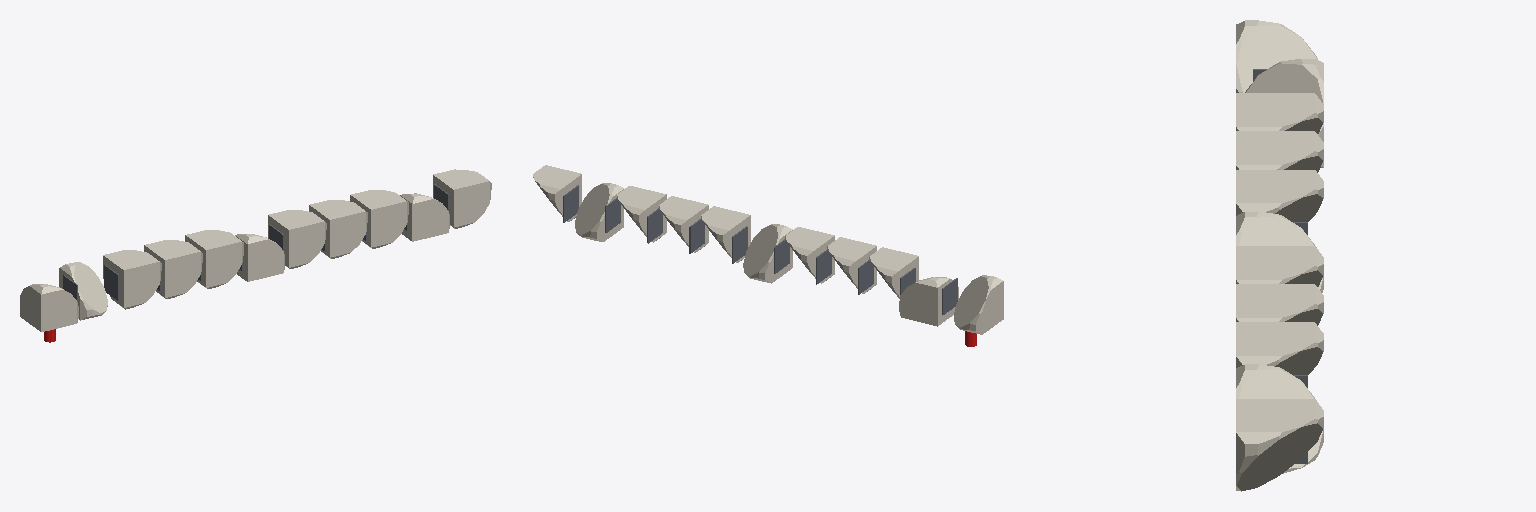
The robot description file, URDF, robot "cubot_shipped":
<?xml version="1.0"?>
<!-- Generated by build_cubot_urdf.py; edit that script, not this file.
     27 x 80 mm cubes, <111> hinge, 8 mm equatorial chamfers + CAD neck profile, 2.2 mm gap (pitch 82.2 mm),
     shipped roll word 1200130013 (right-hand about +X, toward module 27). Units: m, rad, kg.
     Servos are revolute, limited to -120..+120 deg: three positions (-120 / 0 / +120), one per exit face.
     Module 01's wires: a 20 mm dia x 40 mm keep-out cylinder under its bottom (-Z) face, on m01_still. -->
<robot name="cubot_shipped">
  <mujoco><compiler meshdir="." discardvisual="false" fusestatic="false" balanceinertia="true"/></mujoco>

  <material name="still"><color rgba="0.85 0.83 0.78 1"/></material>
  <material name="moving"><color rgba="0.91 0.51 0.23 1"/></material>
  <material name="spacer"><color rgba="0.45 0.47 0.5 1"/></material>
  <material name="wires"><color rgba="0.86 0.15 0.15 1"/></material>

  <!-- ==================== module 01 ==================== -->
  <link name="m01_still">
    <visual>
      <geometry><mesh filename="meshes/still.stl"/></geometry>
      <material name="still"/>
    </visual>
    <collision>
      <geometry><mesh filename="meshes/still.stl"/></geometry>
    </collision>
    <!-- wires: 20 mm dia x 40 mm keep-out under the bottom (-Z) face; massless; nothing may touch it -->
    <visual name="wires_visual">
      <origin xyz="0 0 -0.060000" rpy="0 0 0"/>
      <geometry><cylinder radius="0.01" length="0.04"/></geometry>
      <material name="wires"/>
    </visual>
    <collision name="wires">
      <origin xyz="0 0 -0.060000" rpy="0 0 0"/>
      <geometry><cylinder radius="0.01" length="0.04"/></geometry>
    </collision>
    <inertial>
      <origin xyz="-0.01103093 -0.01103093 -0.01103093" rpy="0 0 0"/>
      <mass value="0.125"/>
      <inertia ixx="9.83829037e-05" ixy="1.31849188e-05" ixz="1.31849188e-05" iyy="9.83829037e-05" iyz="1.31849188e-05" izz="9.83829037e-05"/>
    </inertial>
  </link>

  <link name="m01_moving">
    <visual>
      <geometry><mesh filename="meshes/moving.stl"/></geometry>
      <material name="moving"/>
    </visual>
    <collision>
      <geometry><mesh filename="meshes/moving.stl"/></geometry>
    </collision>
    <visual>
      <origin xyz="0.041100 0 0" rpy="0 0 0"/>
      <geometry><box size="0.0022 0.05 0.05"/></geometry>
      <material name="spacer"/>
    </visual>
    <collision>
      <origin xyz="0.041100 0 0" rpy="0 0 0"/>
      <geometry><box size="0.0022 0.05 0.05"/></geometry>
    </collision>
    <inertial>
      <origin xyz="0.01103093 0.01103093 0.01103093" rpy="0 0 0"/>
      <mass value="0.125"/>
      <inertia ixx="9.83829037e-05" ixy="1.31849188e-05" ixz="1.31849188e-05" iyy="9.83829037e-05" iyz="1.31849188e-05" izz="9.83829037e-05"/>
    </inertial>
  </link>

  <joint name="servo01" type="revolute">
    <parent link="m01_still"/>
    <child link="m01_moving"/>
    <origin xyz="0 0 0" rpy="0 0 0"/>
    <axis xyz="0.57735027 0.57735027 0.57735027"/>
    <limit lower="-2.09439510" upper="2.09439510" effort="5.8" velocity="1.2"/>
  </joint>

  <joint name="mount01_02" type="fixed">
    <!-- roll digit 1: module 2 mounted 90 deg about +X relative to module 1 -->
    <parent link="m01_moving"/>
    <child link="m02_still"/>
    <origin xyz="0.0822 0 0" rpy="1.57079633 0 0"/>
  </joint>

  <!-- ==================== module 02 ==================== -->
  <link name="m02_still">
    <visual>
      <geometry><mesh filename="meshes/still.stl"/></geometry>
      <material name="still"/>
    </visual>
    <collision>
      <geometry><mesh filename="meshes/still.stl"/></geometry>
    </collision>
    <inertial>
      <origin xyz="-0.01103093 -0.01103093 -0.01103093" rpy="0 0 0"/>
      <mass value="0.125"/>
      <inertia ixx="9.83829037e-05" ixy="1.31849188e-05" ixz="1.31849188e-05" iyy="9.83829037e-05" iyz="1.31849188e-05" izz="9.83829037e-05"/>
    </inertial>
  </link>

  <link name="m02_moving">
    <visual>
      <geometry><mesh filename="meshes/moving.stl"/></geometry>
      <material name="moving"/>
    </visual>
    <collision>
      <geometry><mesh filename="meshes/moving.stl"/></geometry>
    </collision>
    <visual>
      <origin xyz="0.041100 0 0" rpy="0 0 0"/>
      <geometry><box size="0.0022 0.05 0.05"/></geometry>
      <material name="spacer"/>
    </visual>
    <collision>
      <origin xyz="0.041100 0 0" rpy="0 0 0"/>
      <geometry><box size="0.0022 0.05 0.05"/></geometry>
    </collision>
    <inertial>
      <origin xyz="0.01103093 0.01103093 0.01103093" rpy="0 0 0"/>
      <mass value="0.125"/>
      <inertia ixx="9.83829037e-05" ixy="1.31849188e-05" ixz="1.31849188e-05" iyy="9.83829037e-05" iyz="1.31849188e-05" izz="9.83829037e-05"/>
    </inertial>
  </link>

  <joint name="servo02" type="revolute">
    <parent link="m02_still"/>
    <child link="m02_moving"/>
    <origin xyz="0 0 0" rpy="0 0 0"/>
    <axis xyz="0.57735027 0.57735027 0.57735027"/>
    <limit lower="-2.09439510" upper="2.09439510" effort="5.8" velocity="1.2"/>
  </joint>

  <joint name="mount02_03" type="fixed">
    <!-- roll digit 2: module 3 mounted 180 deg about +X relative to module 2 -->
    <parent link="m02_moving"/>
    <child link="m03_still"/>
    <origin xyz="0.0822 0 0" rpy="3.14159265 0 0"/>
  </joint>

  <!-- ==================== module 03 ==================== -->
  <link name="m03_still">
    <visual>
      <geometry><mesh filename="meshes/still.stl"/></geometry>
      <material name="still"/>
    </visual>
    <collision>
      <geometry><mesh filename="meshes/still.stl"/></geometry>
    </collision>
    <inertial>
      <origin xyz="-0.01103093 -0.01103093 -0.01103093" rpy="0 0 0"/>
      <mass value="0.125"/>
      <inertia ixx="9.83829037e-05" ixy="1.31849188e-05" ixz="1.31849188e-05" iyy="9.83829037e-05" iyz="1.31849188e-05" izz="9.83829037e-05"/>
    </inertial>
  </link>

  <link name="m03_moving">
    <visual>
      <geometry><mesh filename="meshes/moving.stl"/></geometry>
      <material name="moving"/>
    </visual>
    <collision>
      <geometry><mesh filename="meshes/moving.stl"/></geometry>
    </collision>
    <visual>
      <origin xyz="0.041100 0 0" rpy="0 0 0"/>
      <geometry><box size="0.0022 0.05 0.05"/></geometry>
      <material name="spacer"/>
    </visual>
    <collision>
      <origin xyz="0.041100 0 0" rpy="0 0 0"/>
      <geometry><box size="0.0022 0.05 0.05"/></geometry>
    </collision>
    <inertial>
      <origin xyz="0.01103093 0.01103093 0.01103093" rpy="0 0 0"/>
      <mass value="0.125"/>
      <inertia ixx="9.83829037e-05" ixy="1.31849188e-05" ixz="1.31849188e-05" iyy="9.83829037e-05" iyz="1.31849188e-05" izz="9.83829037e-05"/>
    </inertial>
  </link>

  <joint name="servo03" type="revolute">
    <parent link="m03_still"/>
    <child link="m03_moving"/>
    <origin xyz="0 0 0" rpy="0 0 0"/>
    <axis xyz="0.57735027 0.57735027 0.57735027"/>
    <limit lower="-2.09439510" upper="2.09439510" effort="5.8" velocity="1.2"/>
  </joint>

  <joint name="mount03_04" type="fixed">
    <!-- roll digit 0: module 4 mounted 0 deg about +X relative to module 3 -->
    <parent link="m03_moving"/>
    <child link="m04_still"/>
    <origin xyz="0.0822 0 0" rpy="0.00000000 0 0"/>
  </joint>

  <!-- ==================== module 04 ==================== -->
  <link name="m04_still">
    <visual>
      <geometry><mesh filename="meshes/still.stl"/></geometry>
      <material name="still"/>
    </visual>
    <collision>
      <geometry><mesh filename="meshes/still.stl"/></geometry>
    </collision>
    <inertial>
      <origin xyz="-0.01103093 -0.01103093 -0.01103093" rpy="0 0 0"/>
      <mass value="0.125"/>
      <inertia ixx="9.83829037e-05" ixy="1.31849188e-05" ixz="1.31849188e-05" iyy="9.83829037e-05" iyz="1.31849188e-05" izz="9.83829037e-05"/>
    </inertial>
  </link>

  <link name="m04_moving">
    <visual>
      <geometry><mesh filename="meshes/moving.stl"/></geometry>
      <material name="moving"/>
    </visual>
    <collision>
      <geometry><mesh filename="meshes/moving.stl"/></geometry>
    </collision>
    <visual>
      <origin xyz="0.041100 0 0" rpy="0 0 0"/>
      <geometry><box size="0.0022 0.05 0.05"/></geometry>
      <material name="spacer"/>
    </visual>
    <collision>
      <origin xyz="0.041100 0 0" rpy="0 0 0"/>
      <geometry><box size="0.0022 0.05 0.05"/></geometry>
    </collision>
    <inertial>
      <origin xyz="0.01103093 0.01103093 0.01103093" rpy="0 0 0"/>
      <mass value="0.125"/>
      <inertia ixx="9.83829037e-05" ixy="1.31849188e-05" ixz="1.31849188e-05" iyy="9.83829037e-05" iyz="1.31849188e-05" izz="9.83829037e-05"/>
    </inertial>
  </link>

  <joint name="servo04" type="revolute">
    <parent link="m04_still"/>
    <child link="m04_moving"/>
    <origin xyz="0 0 0" rpy="0 0 0"/>
    <axis xyz="0.57735027 0.57735027 0.57735027"/>
    <limit lower="-2.09439510" upper="2.09439510" effort="5.8" velocity="1.2"/>
  </joint>

  <joint name="mount04_05" type="fixed">
    <!-- roll digit 0: module 5 mounted 0 deg about +X relative to module 4 -->
    <parent link="m04_moving"/>
    <child link="m05_still"/>
    <origin xyz="0.0822 0 0" rpy="0.00000000 0 0"/>
  </joint>

  <!-- ==================== module 05 ==================== -->
  <link name="m05_still">
    <visual>
      <geometry><mesh filename="meshes/still.stl"/></geometry>
      <material name="still"/>
    </visual>
    <collision>
      <geometry><mesh filename="meshes/still.stl"/></geometry>
    </collision>
    <inertial>
      <origin xyz="-0.01103093 -0.01103093 -0.01103093" rpy="0 0 0"/>
      <mass value="0.125"/>
      <inertia ixx="9.83829037e-05" ixy="1.31849188e-05" ixz="1.31849188e-05" iyy="9.83829037e-05" iyz="1.31849188e-05" izz="9.83829037e-05"/>
    </inertial>
  </link>

  <link name="m05_moving">
    <visual>
      <geometry><mesh filename="meshes/moving.stl"/></geometry>
      <material name="moving"/>
    </visual>
    <collision>
      <geometry><mesh filename="meshes/moving.stl"/></geometry>
    </collision>
    <visual>
      <origin xyz="0.041100 0 0" rpy="0 0 0"/>
      <geometry><box size="0.0022 0.05 0.05"/></geometry>
      <material name="spacer"/>
    </visual>
    <collision>
      <origin xyz="0.041100 0 0" rpy="0 0 0"/>
      <geometry><box size="0.0022 0.05 0.05"/></geometry>
    </collision>
    <inertial>
      <origin xyz="0.01103093 0.01103093 0.01103093" rpy="0 0 0"/>
      <mass value="0.125"/>
      <inertia ixx="9.83829037e-05" ixy="1.31849188e-05" ixz="1.31849188e-05" iyy="9.83829037e-05" iyz="1.31849188e-05" izz="9.83829037e-05"/>
    </inertial>
  </link>

  <joint name="servo05" type="revolute">
    <parent link="m05_still"/>
    <child link="m05_moving"/>
    <origin xyz="0 0 0" rpy="0 0 0"/>
    <axis xyz="0.57735027 0.57735027 0.57735027"/>
    <limit lower="-2.09439510" upper="2.09439510" effort="5.8" velocity="1.2"/>
  </joint>

  <joint name="mount05_06" type="fixed">
    <!-- roll digit 1: module 6 mounted 90 deg about +X relative to module 5 -->
    <parent link="m05_moving"/>
    <child link="m06_still"/>
    <origin xyz="0.0822 0 0" rpy="1.57079633 0 0"/>
  </joint>

  <!-- ==================== module 06 ==================== -->
  <link name="m06_still">
    <visual>
      <geometry><mesh filename="meshes/still.stl"/></geometry>
      <material name="still"/>
    </visual>
    <collision>
      <geometry><mesh filename="meshes/still.stl"/></geometry>
    </collision>
    <inertial>
      <origin xyz="-0.01103093 -0.01103093 -0.01103093" rpy="0 0 0"/>
      <mass value="0.125"/>
      <inertia ixx="9.83829037e-05" ixy="1.31849188e-05" ixz="1.31849188e-05" iyy="9.83829037e-05" iyz="1.31849188e-05" izz="9.83829037e-05"/>
    </inertial>
  </link>

  <link name="m06_moving">
    <visual>
      <geometry><mesh filename="meshes/moving.stl"/></geometry>
      <material name="moving"/>
    </visual>
    <collision>
      <geometry><mesh filename="meshes/moving.stl"/></geometry>
    </collision>
    <visual>
      <origin xyz="0.041100 0 0" rpy="0 0 0"/>
      <geometry><box size="0.0022 0.05 0.05"/></geometry>
      <material name="spacer"/>
    </visual>
    <collision>
      <origin xyz="0.041100 0 0" rpy="0 0 0"/>
      <geometry><box size="0.0022 0.05 0.05"/></geometry>
    </collision>
    <inertial>
      <origin xyz="0.01103093 0.01103093 0.01103093" rpy="0 0 0"/>
      <mass value="0.125"/>
      <inertia ixx="9.83829037e-05" ixy="1.31849188e-05" ixz="1.31849188e-05" iyy="9.83829037e-05" iyz="1.31849188e-05" izz="9.83829037e-05"/>
    </inertial>
  </link>

  <joint name="servo06" type="revolute">
    <parent link="m06_still"/>
    <child link="m06_moving"/>
    <origin xyz="0 0 0" rpy="0 0 0"/>
    <axis xyz="0.57735027 0.57735027 0.57735027"/>
    <limit lower="-2.09439510" upper="2.09439510" effort="5.8" velocity="1.2"/>
  </joint>

  <joint name="mount06_07" type="fixed">
    <!-- roll digit 3: module 7 mounted 270 deg about +X relative to module 6 -->
    <parent link="m06_moving"/>
    <child link="m07_still"/>
    <origin xyz="0.0822 0 0" rpy="4.71238898 0 0"/>
  </joint>

  <!-- ==================== module 07 ==================== -->
  <link name="m07_still">
    <visual>
      <geometry><mesh filename="meshes/still.stl"/></geometry>
      <material name="still"/>
    </visual>
    <collision>
      <geometry><mesh filename="meshes/still.stl"/></geometry>
    </collision>
    <inertial>
      <origin xyz="-0.01103093 -0.01103093 -0.01103093" rpy="0 0 0"/>
      <mass value="0.125"/>
      <inertia ixx="9.83829037e-05" ixy="1.31849188e-05" ixz="1.31849188e-05" iyy="9.83829037e-05" iyz="1.31849188e-05" izz="9.83829037e-05"/>
    </inertial>
  </link>

  <link name="m07_moving">
    <visual>
      <geometry><mesh filename="meshes/moving.stl"/></geometry>
      <material name="moving"/>
    </visual>
    <collision>
      <geometry><mesh filename="meshes/moving.stl"/></geometry>
    </collision>
    <visual>
      <origin xyz="0.041100 0 0" rpy="0 0 0"/>
      <geometry><box size="0.0022 0.05 0.05"/></geometry>
      <material name="spacer"/>
    </visual>
    <collision>
      <origin xyz="0.041100 0 0" rpy="0 0 0"/>
      <geometry><box size="0.0022 0.05 0.05"/></geometry>
    </collision>
    <inertial>
      <origin xyz="0.01103093 0.01103093 0.01103093" rpy="0 0 0"/>
      <mass value="0.125"/>
      <inertia ixx="9.83829037e-05" ixy="1.31849188e-05" ixz="1.31849188e-05" iyy="9.83829037e-05" iyz="1.31849188e-05" izz="9.83829037e-05"/>
    </inertial>
  </link>

  <joint name="servo07" type="revolute">
    <parent link="m07_still"/>
    <child link="m07_moving"/>
    <origin xyz="0 0 0" rpy="0 0 0"/>
    <axis xyz="0.57735027 0.57735027 0.57735027"/>
    <limit lower="-2.09439510" upper="2.09439510" effort="5.8" velocity="1.2"/>
  </joint>

  <joint name="mount07_08" type="fixed">
    <!-- roll digit 0: module 8 mounted 0 deg about +X relative to module 7 -->
    <parent link="m07_moving"/>
    <child link="m08_still"/>
    <origin xyz="0.0822 0 0" rpy="0.00000000 0 0"/>
  </joint>

  <!-- ==================== module 08 ==================== -->
  <link name="m08_still">
    <visual>
      <geometry><mesh filename="meshes/still.stl"/></geometry>
      <material name="still"/>
    </visual>
    <collision>
      <geometry><mesh filename="meshes/still.stl"/></geometry>
    </collision>
    <inertial>
      <origin xyz="-0.01103093 -0.01103093 -0.01103093" rpy="0 0 0"/>
      <mass value="0.125"/>
      <inertia ixx="9.83829037e-05" ixy="1.31849188e-05" ixz="1.31849188e-05" iyy="9.83829037e-05" iyz="1.31849188e-05" izz="9.83829037e-05"/>
    </inertial>
  </link>

  <link name="m08_moving">
    <visual>
      <geometry><mesh filename="meshes/moving.stl"/></geometry>
      <material name="moving"/>
    </visual>
    <collision>
      <geometry><mesh filename="meshes/moving.stl"/></geometry>
    </collision>
    <visual>
      <origin xyz="0.041100 0 0" rpy="0 0 0"/>
      <geometry><box size="0.0022 0.05 0.05"/></geometry>
      <material name="spacer"/>
    </visual>
    <collision>
      <origin xyz="0.041100 0 0" rpy="0 0 0"/>
      <geometry><box size="0.0022 0.05 0.05"/></geometry>
    </collision>
    <inertial>
      <origin xyz="0.01103093 0.01103093 0.01103093" rpy="0 0 0"/>
      <mass value="0.125"/>
      <inertia ixx="9.83829037e-05" ixy="1.31849188e-05" ixz="1.31849188e-05" iyy="9.83829037e-05" iyz="1.31849188e-05" izz="9.83829037e-05"/>
    </inertial>
  </link>

  <joint name="servo08" type="revolute">
    <parent link="m08_still"/>
    <child link="m08_moving"/>
    <origin xyz="0 0 0" rpy="0 0 0"/>
    <axis xyz="0.57735027 0.57735027 0.57735027"/>
    <limit lower="-2.09439510" upper="2.09439510" effort="5.8" velocity="1.2"/>
  </joint>

  <joint name="mount08_09" type="fixed">
    <!-- roll digit 0: module 9 mounted 0 deg about +X relative to module 8 -->
    <parent link="m08_moving"/>
    <child link="m09_still"/>
    <origin xyz="0.0822 0 0" rpy="0.00000000 0 0"/>
  </joint>

  <!-- ==================== module 09 ==================== -->
  <link name="m09_still">
    <visual>
      <geometry><mesh filename="meshes/still.stl"/></geometry>
      <material name="still"/>
    </visual>
    <collision>
      <geometry><mesh filename="meshes/still.stl"/></geometry>
    </collision>
    <inertial>
      <origin xyz="-0.01103093 -0.01103093 -0.01103093" rpy="0 0 0"/>
      <mass value="0.125"/>
      <inertia ixx="9.83829037e-05" ixy="1.31849188e-05" ixz="1.31849188e-05" iyy="9.83829037e-05" iyz="1.31849188e-05" izz="9.83829037e-05"/>
    </inertial>
  </link>

  <link name="m09_moving">
    <visual>
      <geometry><mesh filename="meshes/moving.stl"/></geometry>
      <material name="moving"/>
    </visual>
    <collision>
      <geometry><mesh filename="meshes/moving.stl"/></geometry>
    </collision>
    <visual>
      <origin xyz="0.041100 0 0" rpy="0 0 0"/>
      <geometry><box size="0.0022 0.05 0.05"/></geometry>
      <material name="spacer"/>
    </visual>
    <collision>
      <origin xyz="0.041100 0 0" rpy="0 0 0"/>
      <geometry><box size="0.0022 0.05 0.05"/></geometry>
    </collision>
    <inertial>
      <origin xyz="0.01103093 0.01103093 0.01103093" rpy="0 0 0"/>
      <mass value="0.125"/>
      <inertia ixx="9.83829037e-05" ixy="1.31849188e-05" ixz="1.31849188e-05" iyy="9.83829037e-05" iyz="1.31849188e-05" izz="9.83829037e-05"/>
    </inertial>
  </link>

  <joint name="servo09" type="revolute">
    <parent link="m09_still"/>
    <child link="m09_moving"/>
    <origin xyz="0 0 0" rpy="0 0 0"/>
    <axis xyz="0.57735027 0.57735027 0.57735027"/>
    <limit lower="-2.09439510" upper="2.09439510" effort="5.8" velocity="1.2"/>
  </joint>

  <joint name="mount09_10" type="fixed">
    <!-- roll digit 1: module 10 mounted 90 deg about +X relative to module 9 -->
    <parent link="m09_moving"/>
    <child link="m10_still"/>
    <origin xyz="0.0822 0 0" rpy="1.57079633 0 0"/>
  </joint>

  <!-- ==================== module 10 ==================== -->
  <link name="m10_still">
    <visual>
      <geometry><mesh filename="meshes/still.stl"/></geometry>
      <material name="still"/>
    </visual>
    <collision>
      <geometry><mesh filename="meshes/still.stl"/></geometry>
    </collision>
    <inertial>
      <origin xyz="-0.01103093 -0.01103093 -0.01103093" rpy="0 0 0"/>
      <mass value="0.125"/>
      <inertia ixx="9.83829037e-05" ixy="1.31849188e-05" ixz="1.31849188e-05" iyy="9.83829037e-05" iyz="1.31849188e-05" izz="9.83829037e-05"/>
    </inertial>
  </link>

  <link name="m10_moving">
    <visual>
      <geometry><mesh filename="meshes/moving.stl"/></geometry>
      <material name="moving"/>
    </visual>
    <collision>
      <geometry><mesh filename="meshes/moving.stl"/></geometry>
    </collision>
    <visual>
      <origin xyz="0.041100 0 0" rpy="0 0 0"/>
      <geometry><box size="0.0022 0.05 0.05"/></geometry>
      <material name="spacer"/>
    </visual>
    <collision>
      <origin xyz="0.041100 0 0" rpy="0 0 0"/>
      <geometry><box size="0.0022 0.05 0.05"/></geometry>
    </collision>
    <inertial>
      <origin xyz="0.01103093 0.01103093 0.01103093" rpy="0 0 0"/>
      <mass value="0.125"/>
      <inertia ixx="9.83829037e-05" ixy="1.31849188e-05" ixz="1.31849188e-05" iyy="9.83829037e-05" iyz="1.31849188e-05" izz="9.83829037e-05"/>
    </inertial>
  </link>

  <joint name="servo10" type="revolute">
    <parent link="m10_still"/>
    <child link="m10_moving"/>
    <origin xyz="0 0 0" rpy="0 0 0"/>
    <axis xyz="0.57735027 0.57735027 0.57735027"/>
    <limit lower="-2.09439510" upper="2.09439510" effort="5.8" velocity="1.2"/>
  </joint>

  <joint name="mount10_11" type="fixed">
    <!-- roll digit 3: module 11 mounted 270 deg about +X relative to module 10 -->
    <parent link="m10_moving"/>
    <child link="m11_still"/>
    <origin xyz="0.0822 0 0" rpy="4.71238898 0 0"/>
  </joint>

  <!-- ==================== module 11 ==================== -->
  <link name="m11_still">
    <visual>
      <geometry><mesh filename="meshes/still.stl"/></geometry>
      <material name="still"/>
    </visual>
    <collision>
      <geometry><mesh filename="meshes/still.stl"/></geometry>
    </collision>
    <inertial>
      <origin xyz="-0.01103093 -0.01103093 -0.01103093" rpy="0 0 0"/>
      <mass value="0.125"/>
      <inertia ixx="9.83829037e-05" ixy="1.31849188e-05" ixz="1.31849188e-05" iyy="9.83829037e-05" iyz="1.31849188e-05" izz="9.83829037e-05"/>
    </inertial>
  </link>

  <link name="m11_moving">
    <visual>
      <geometry><mesh filename="meshes/moving.stl"/></geometry>
      <material name="moving"/>
    </visual>
    <collision>
      <geometry><mesh filename="meshes/moving.stl"/></geometry>
    </collision>
    <inertial>
      <origin xyz="0.01103093 0.01103093 0.01103093" rpy="0 0 0"/>
      <mass value="0.125"/>
      <inertia ixx="9.83829037e-05" ixy="1.31849188e-05" ixz="1.31849188e-05" iyy="9.83829037e-05" iyz="1.31849188e-05" izz="9.83829037e-05"/>
    </inertial>
  </link>

  <joint name="servo11" type="revolute">
    <parent link="m11_still"/>
    <child link="m11_moving"/>
    <origin xyz="0 0 0" rpy="0 0 0"/>
    <axis xyz="0.57735027 0.57735027 0.57735027"/>
    <limit lower="-2.09439510" upper="2.09439510" effort="5.8" velocity="1.2"/>
  </joint>

</robot>

--- Render facts (derived) ---
Views: 3 orthographic renders of the robot side by side, from view 1: azimuth 30°, elevation 25°; view 2: azimuth 150°, elevation 25°; view 3: azimuth 270°, elevation 25°.
Robot: cubot_shipped — 22 links, 21 joints (11 revolute, 10 fixed); root link m01_still; default pose: every joint at zero.
Visible links, largest first — view 1: m01_still, m03_still, m11_still, m07_still, m05_still, m09_still, m04_still, m08_still, m06_still, m10_still, m02_still; view 2: m01_still, m02_still, m06_still, m10_still, m07_still, m11_still, m09_still, m08_still, m04_still, m05_still, m03_still; view 3: m11_still, m09_still, m05_still, m04_still, m07_still, m08_still, m03_still, m01_still, m10_still, m02_still, m06_still.
Link boxes in pixels (x1,y1,x2,y2): m01_still: [20, 284, 78, 342]; m03_still: [103, 250, 161, 309]; m11_still: [433, 169, 491, 228]; m07_still: [268, 210, 326, 268]; m05_still: [185, 230, 243, 288]; m09_still: [350, 190, 408, 248]; m04_still: [144, 240, 202, 298]; m08_still: [309, 200, 367, 258]; m06_still: [235, 234, 284, 281]; m10_still: [400, 193, 449, 241]; m02_still: [59, 262, 107, 320]; m01_still: [954, 275, 1003, 346]; m02_still: [899, 277, 958, 326]; m06_still: [743, 224, 792, 283]; m10_still: [575, 183, 623, 241]; m07_still: [701, 206, 750, 262]; m11_still: [533, 165, 581, 221]; m09_still: [617, 186, 666, 242]; m08_still: [659, 196, 708, 252]; m04_still: [827, 237, 876, 293]; m05_still: [785, 227, 834, 283]; m03_still: [869, 247, 918, 298]; m11_still: [1236, 399, 1323, 491]; m09_still: [1236, 322, 1323, 374]; m05_still: [1236, 170, 1323, 221]; m04_still: [1236, 131, 1323, 172]; m07_still: [1236, 246, 1323, 286]; m08_still: [1236, 284, 1323, 325]; m03_still: [1236, 93, 1323, 133]; m01_still: [1236, 20, 1317, 92]; m10_still: [1236, 364, 1323, 473]; m02_still: [1245, 59, 1323, 167]; m06_still: [1236, 212, 1323, 292].
Size in the robot's own frame: 0.902 by 0.08 by 0.12 metres.
11 mesh visuals loaded from 2 distinct referenced files (1 binary STL); not drawn: 11 (reference not matched to a file when rendering).
